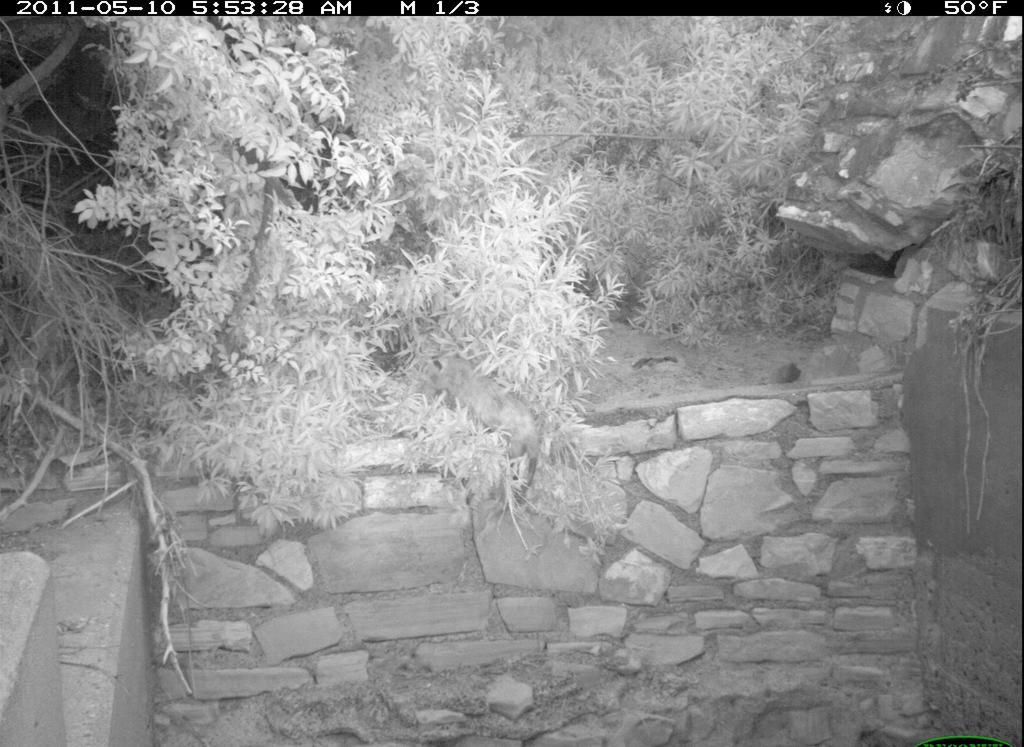opossum: (410, 346, 564, 488)
